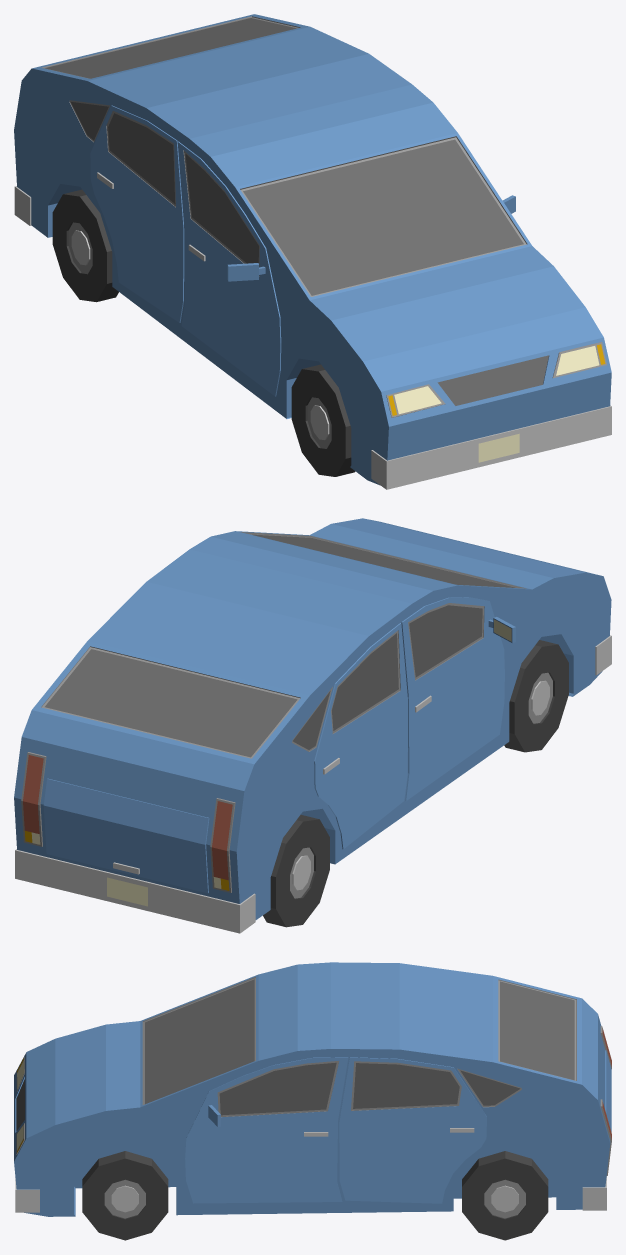
Rendered from car of the future.fbx.
The picture shows the model from 3 angles, top to bottom: view 1: azimuth 30°, elevation 25°; view 2: azimuth 150°, elevation 25°; view 3: azimuth 270°, elevation 25°; orthographic projection. The views are drawn at different scales.
Parts seen in each view (by area): view 1: fs, Cylinder_2_3, Cylinder_2_1; view 2: fs, Cylinder_2_3, Cylinder_2_1; view 3: fs, Cylinder_2_2, Cylinder_2.
Boxes of the visible parts, x1,y1,x2,y2 form: fs: (14,14,611,489); Cylinder_2_3: (52,189,118,302); Cylinder_2_1: (291,364,355,476); fs: (14,518,611,933); Cylinder_2_3: (263,814,329,927); Cylinder_2_1: (504,640,568,752); fs: (14,962,611,1216); Cylinder_2_2: (462,1151,548,1240); Cylinder_2: (82,1151,168,1240).
Bounding box in the file's own units: 169 × 135 × 383.
